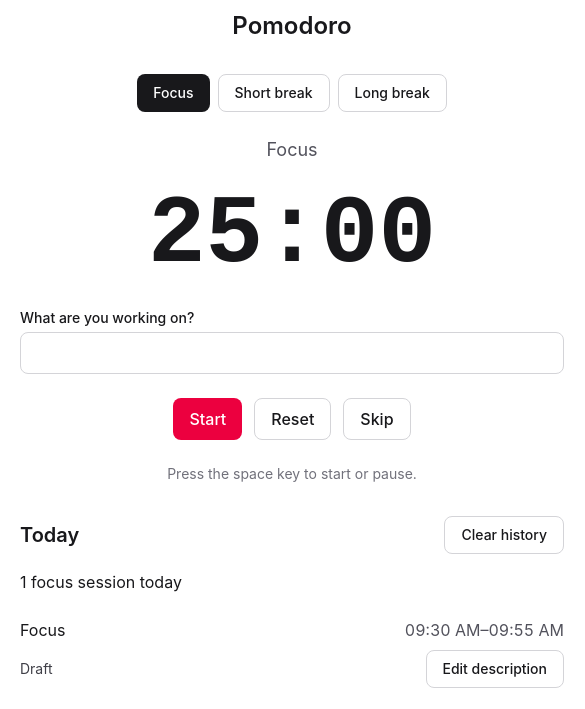
it: PomodoroApp › descriptions › does not change the description when the user presses Escape
Click the button with aria-label "Edit description of the focus session": (495, 669) [426,650,564,688]
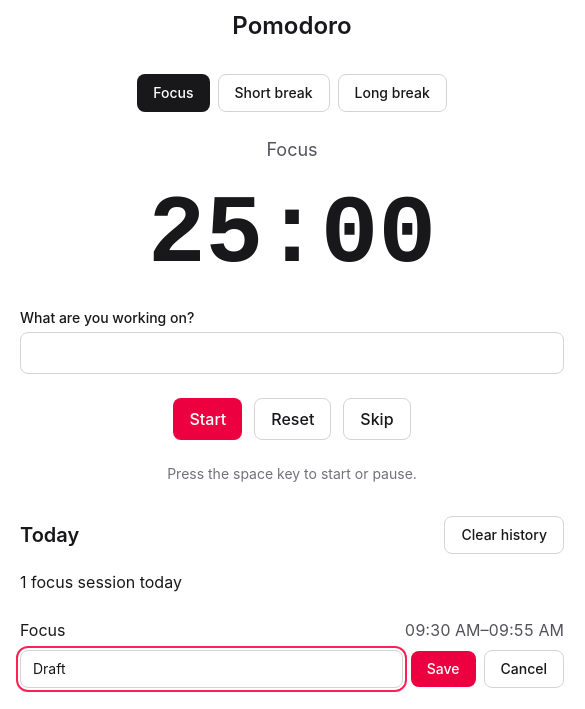
Replace the text in the field named "Description of the focus session" with "Something else": (211, 669) [20,650,403,688]
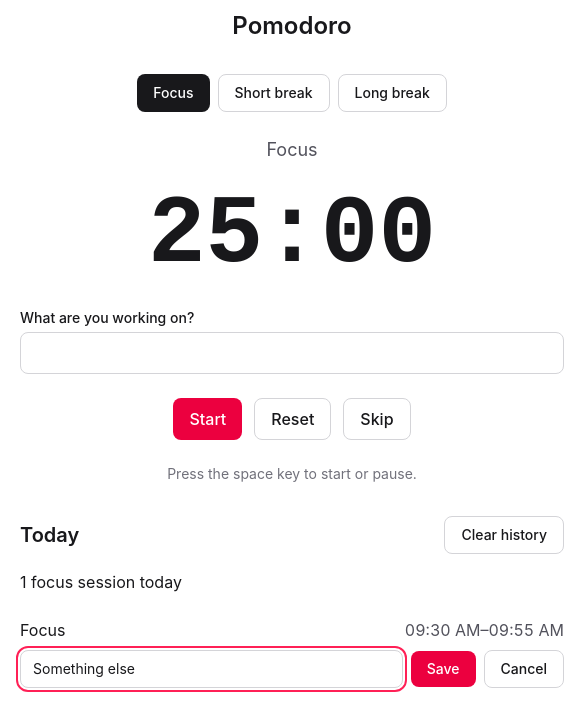
Press Escape in the field named "Description of the focus session", box [20,650,403,688]
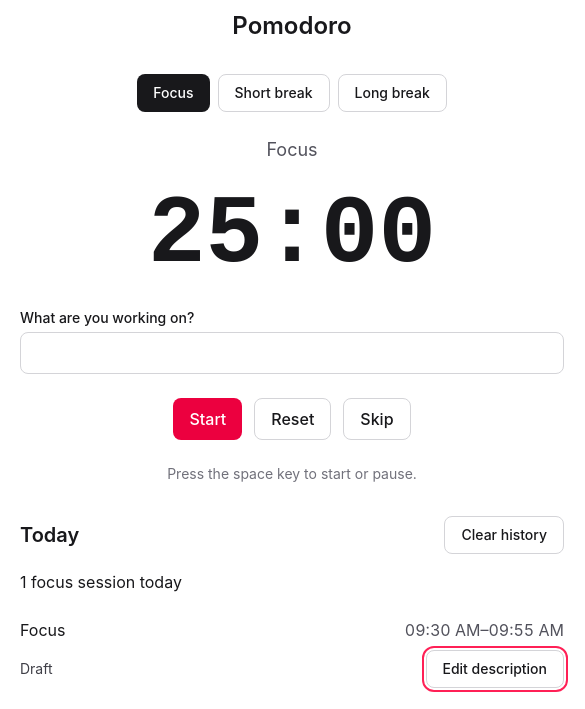
Expected: the text with test id "record-description" reads "Draft", [20,660,52,677]
